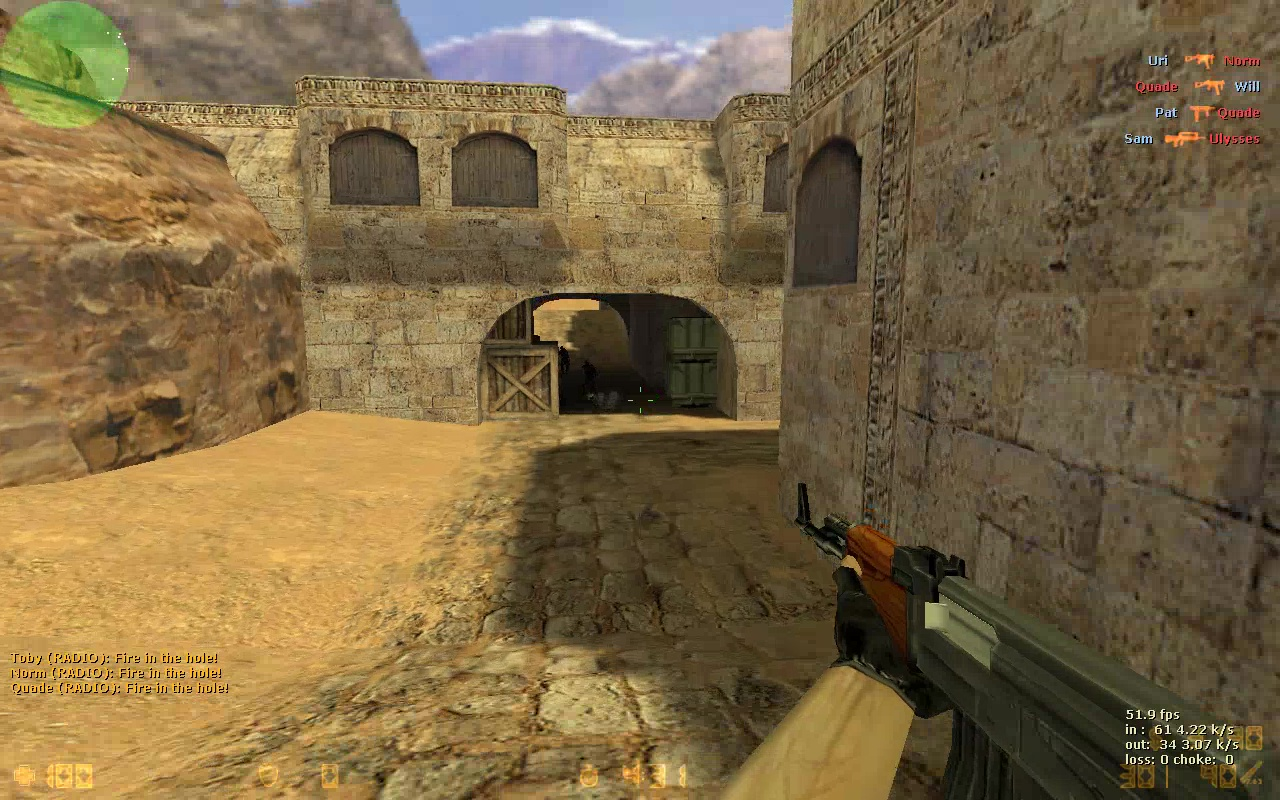ct: (583, 359, 598, 393), (558, 344, 571, 379)
